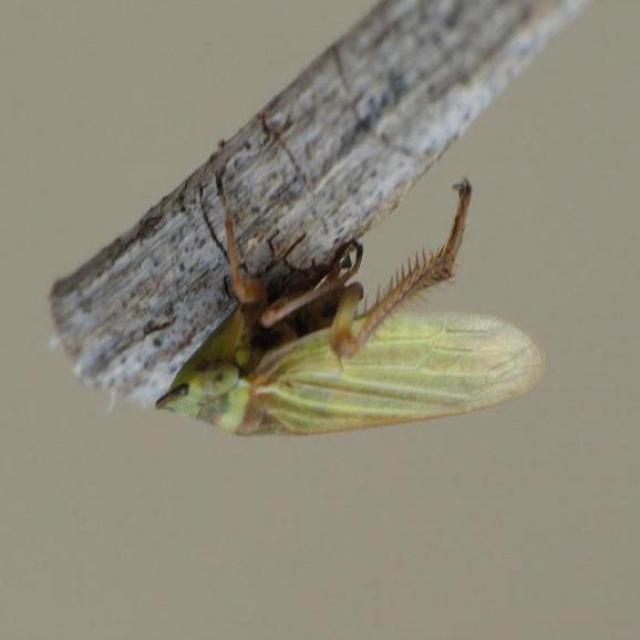green leaf hopper: (156, 182, 541, 436)
